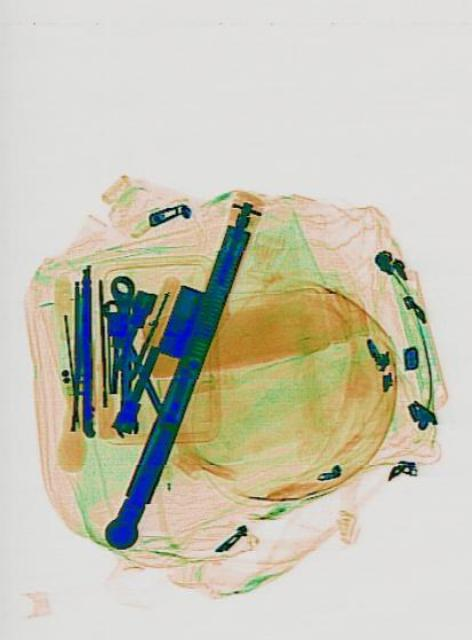Wrench: (106, 274, 138, 436)
